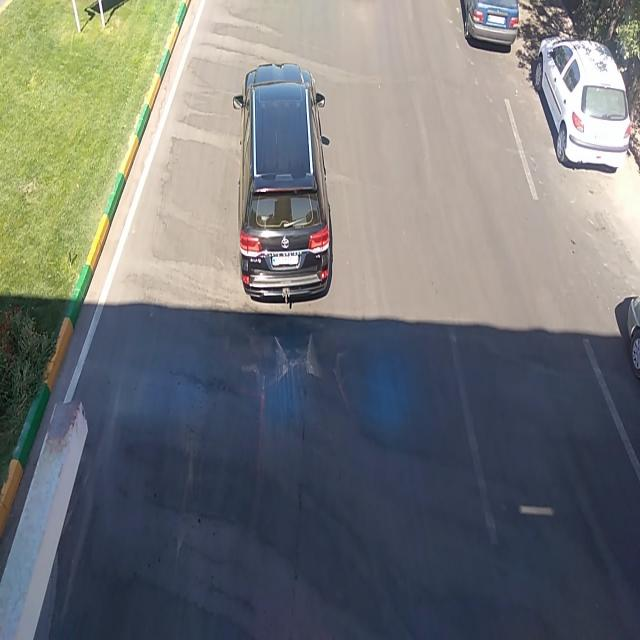car: (228, 64, 330, 302), (537, 30, 629, 176), (460, 1, 522, 52)
